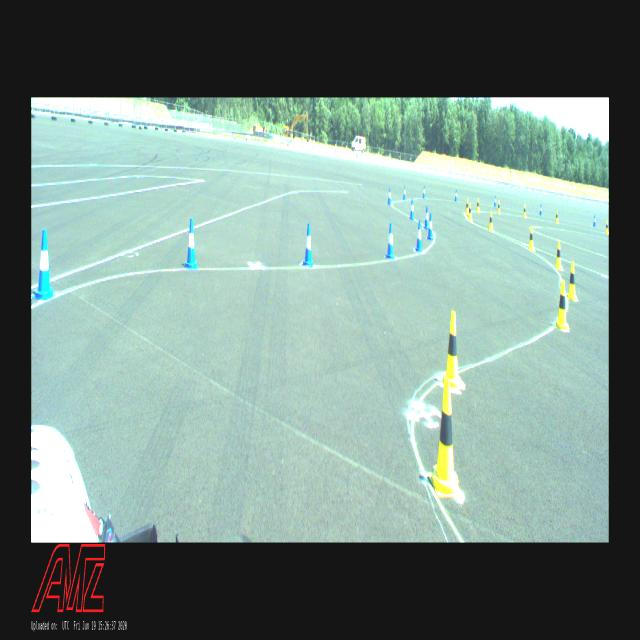blue_cone: (34, 230, 54, 300), (185, 218, 198, 270), (303, 222, 313, 266), (386, 224, 394, 259), (416, 222, 422, 252), (427, 213, 433, 240), (424, 206, 428, 230), (410, 198, 414, 220), (388, 188, 392, 204), (422, 185, 426, 199), (454, 190, 458, 202), (403, 186, 406, 200), (540, 203, 542, 216), (494, 195, 496, 207), (594, 215, 596, 226)
yellow_cone: (429, 379, 461, 497), (442, 311, 462, 386), (556, 282, 568, 330), (567, 260, 577, 300), (556, 242, 562, 270), (528, 226, 534, 250), (488, 211, 493, 231), (468, 202, 472, 222), (465, 198, 469, 214), (477, 197, 479, 213), (606, 220, 608, 234), (524, 204, 526, 218), (556, 210, 558, 223), (498, 200, 500, 213)
